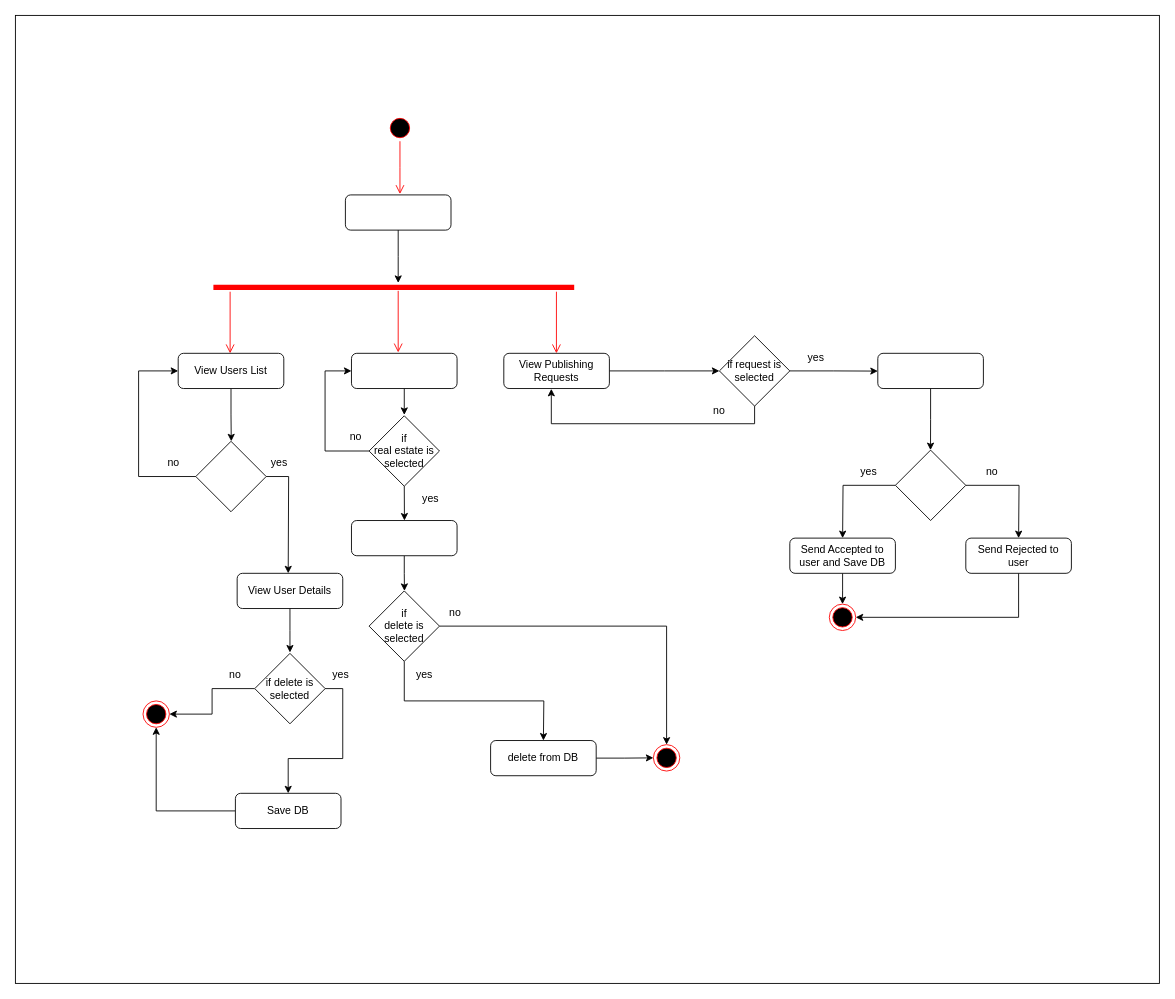
The diagram is 1175 pixels wide and 999 high, and some of its shapes have lost their labels. The shapes that lost their labels are listed below. From the top down, each one's box as (x1, y1, x2, y2) in pixels, then its label:
(345, 194, 451, 230): View Admin Dashboard
(351, 352, 457, 389): Browse Real Estate
(877, 352, 983, 389): View Request details
(195, 440, 266, 512): if user is selected
(895, 449, 966, 521): if request accepted
(351, 520, 457, 556): View real estate details
